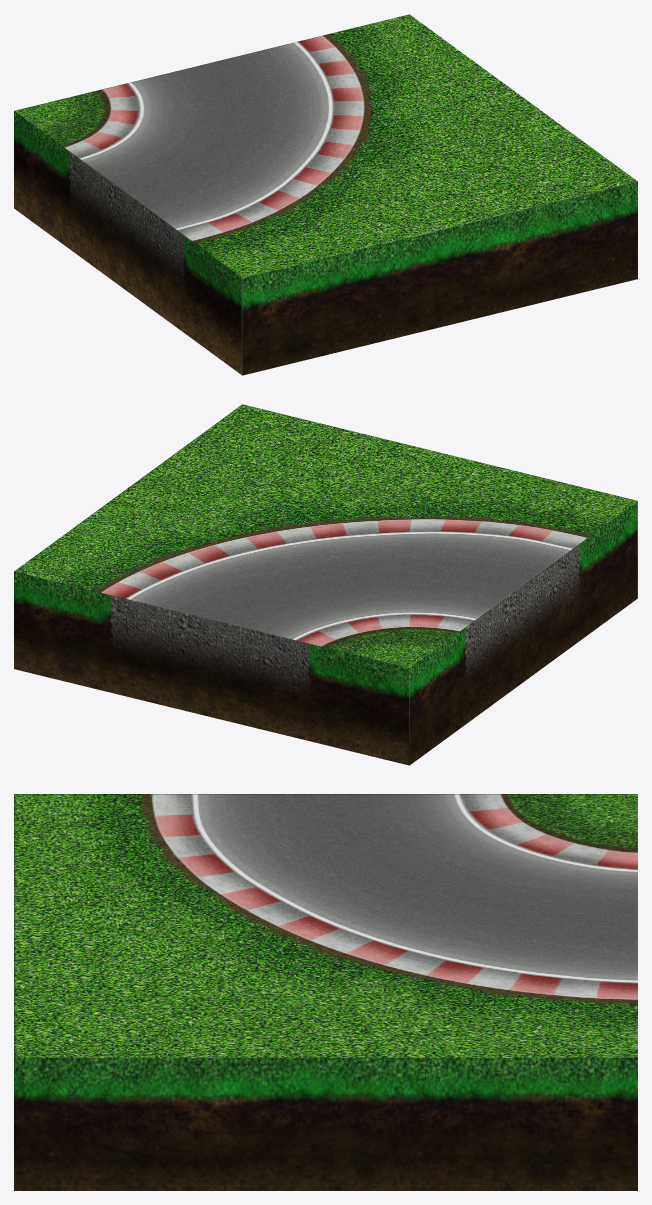
File: road to left.fbx
The picture shows the model from 3 angles, top to bottom: view 1: azimuth 30°, elevation 25°; view 2: azimuth 150°, elevation 25°; view 3: azimuth 270°, elevation 25°; orthographic projection. The views are drawn at different scales.
Visible parts, largest first — view 1: road to left; view 2: road to left; view 3: road to left.
Boxes of the visible parts, x1=… form: road to left: x1=14, y1=14, x2=637, y2=375; road to left: x1=14, y1=404, x2=637, y2=765; road to left: x1=14, y1=794, x2=637, y2=1190.
Bounding box in the file's own units: 390 × 91.83 × 390.
